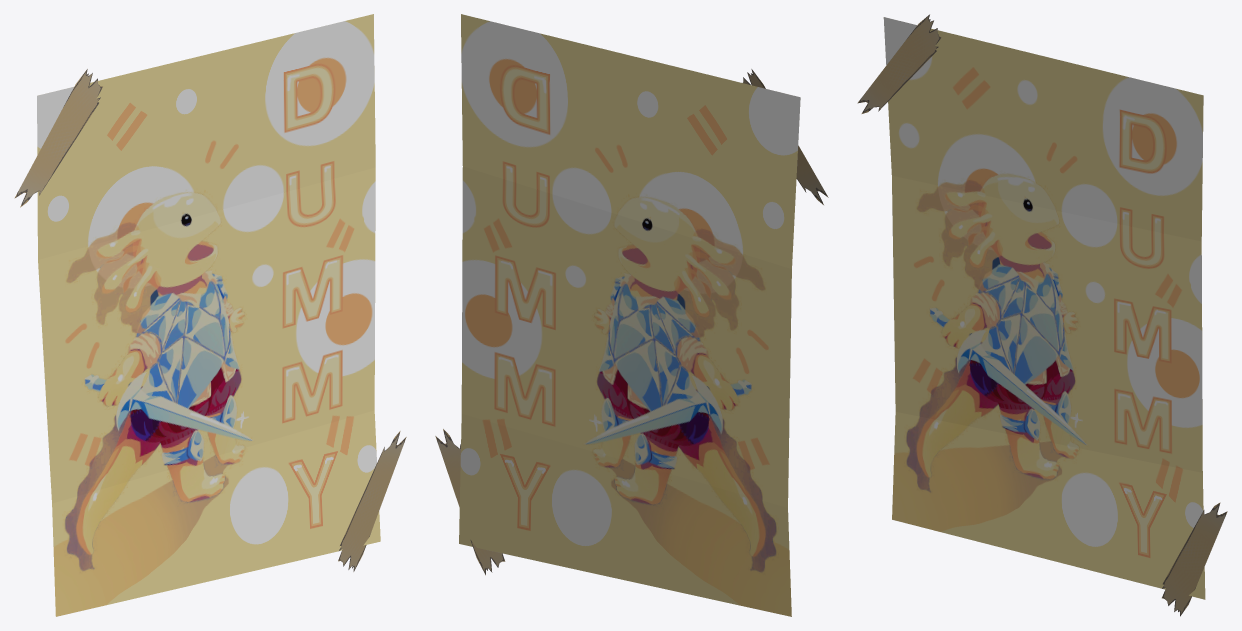
File: PosterAscolotl.fbx
3 views of the same model, side by side, from view 1: azimuth 30°, elevation 25°; view 2: azimuth 150°, elevation 25°; view 3: azimuth 330°, elevation 25° (orthographic). The views are drawn at different scales.
Parts seen in each view (by area): view 1: Poster, Tape.001, Tape.002; view 2: Poster, Tape.002, Tape.001; view 3: Poster, Tape.002, Tape.001.
Boxes of the visible parts, box(x1,y1,x2,y2) form: Poster: box(37, 14, 380, 616); Tape.001: box(14, 69, 102, 207); Tape.002: box(338, 431, 406, 571); Poster: box(459, 14, 800, 616); Tape.002: box(435, 429, 505, 575); Tape.001: box(743, 69, 828, 204); Poster: box(883, 17, 1205, 599); Tape.002: box(1162, 502, 1227, 616); Tape.001: box(857, 14, 941, 113).
Size of the model in its own units: 281 by 390 by 11.73.
Materials: 3 (3 with a texture image).
